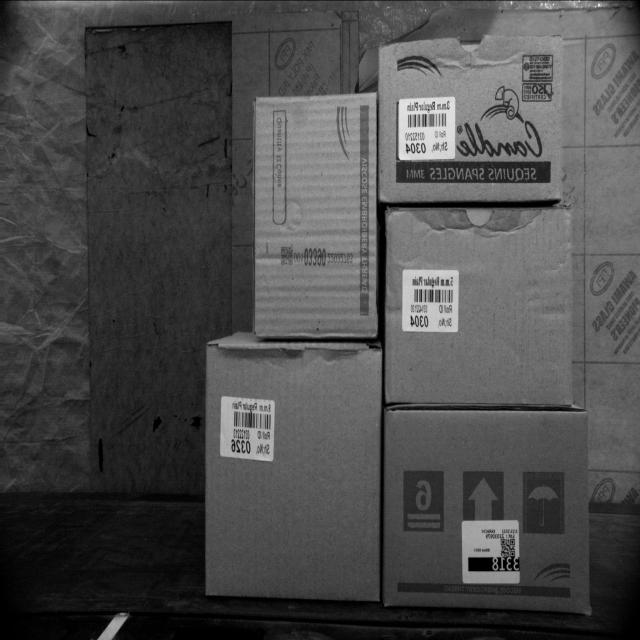cardboxes: (203, 348, 380, 596), (383, 410, 589, 612), (383, 201, 575, 407), (373, 38, 564, 200), (252, 95, 376, 336)
